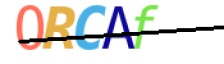0: (16, 4, 44, 50)
A: (101, 6, 135, 50)
C: (74, 3, 106, 50)
R: (43, 4, 75, 50)
f: (132, 3, 159, 51)
